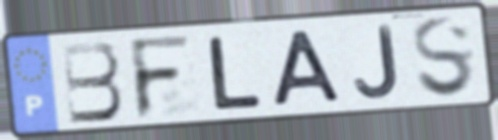A: (270, 27, 346, 109)
B: (59, 39, 127, 126)
F: (126, 32, 195, 122)
J: (352, 23, 401, 101)
L: (205, 34, 265, 112)
S: (409, 14, 479, 101)
